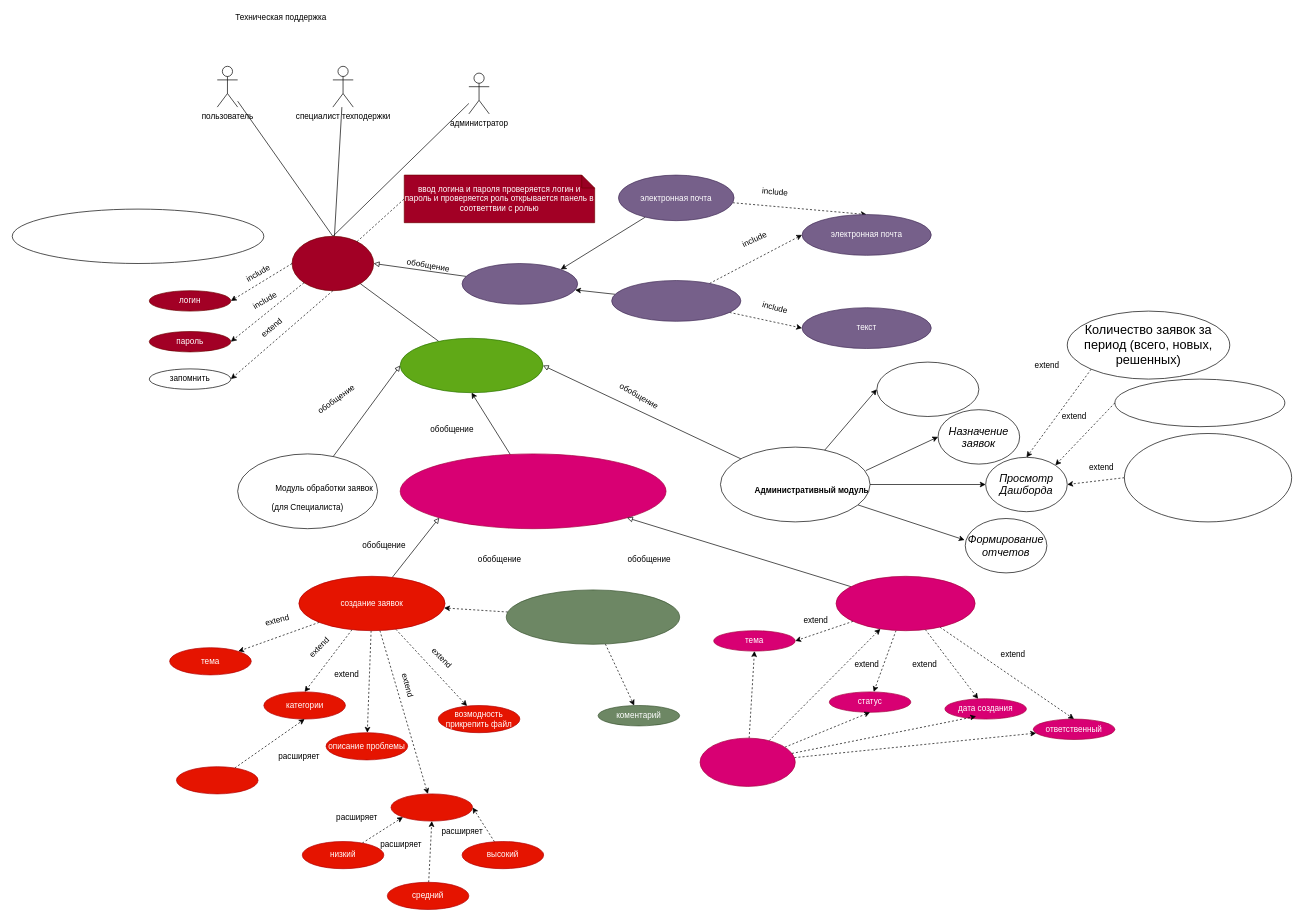
The diagram is 1304 pixels wide and 921 high, and some of its shapes have lost their labels. Here are the shapes that lost their labels. From the top down, the centre of each, then its label:
At pixel 138 236: "Модуль авторизации и регистрации".
At pixel 332 263: "авторизация".
At pixel 519 283: "востановление пароля".
At pixel 676 300: "оброщение к алминистратору".
At pixel 471 365: "Панель пользователя".
At pixel 927 389: "Управление пользователями".
At pixel 1199 402: "Среднее время решения заявки.".
At pixel 533 491: "Модуль управления заявками (для Пользователя)".
At pixel 1208 477: "Загрузка специалистов (количество открытых заявок на каждого).".
At pixel 593 616: "добавление комментариев".
At pixel 905 603: "просмотр заявок".
At pixel 217 780: "справочник".
At pixel 747 761: "детальный просмотр".
At pixel 431 807: "приоритет".
